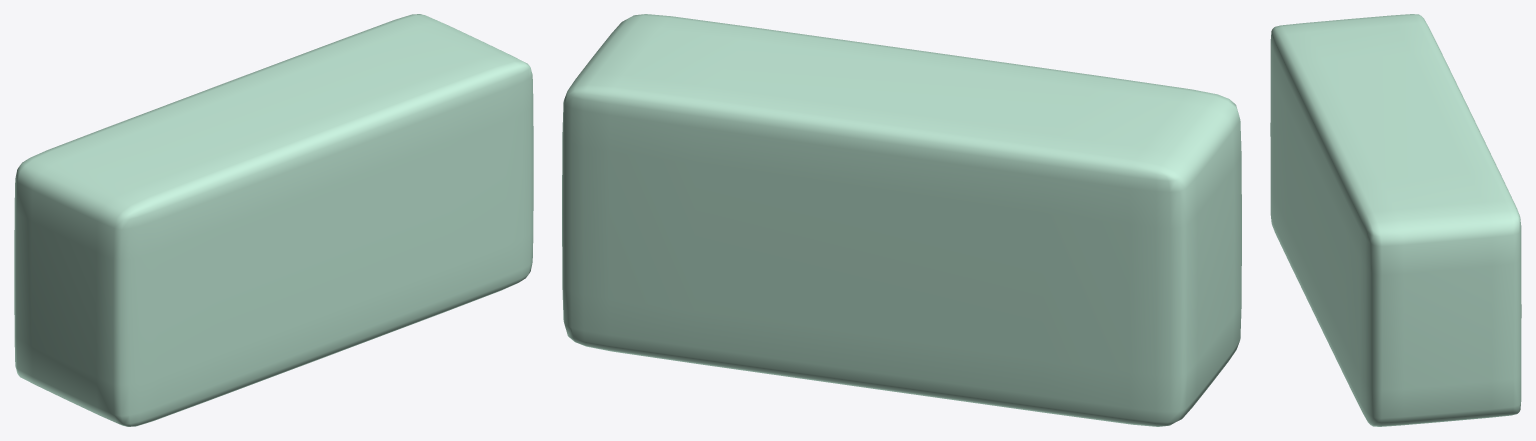
The model's file is PROP_Hedge_v2.glb.
3 views of the same model, side by side, from view 1: azimuth 30°, elevation 25°; view 2: azimuth 150°, elevation 25°; view 3: azimuth 270°, elevation 25° (orthographic). The views are drawn at different scales.
Visible parts, largest first — view 1: PROP_Hedge_v2; view 2: PROP_Hedge_v2; view 3: PROP_Hedge_v2.
Part boxes in pixels (x1=…): PROP_Hedge_v2: x1=14, y1=14, x2=533, y2=426; PROP_Hedge_v2: x1=562, y1=14, x2=1241, y2=426; PROP_Hedge_v2: x1=1270, y1=14, x2=1521, y2=426.
Bounding box in the file's own units: 1.38 × 0.5932 × 0.6499.
